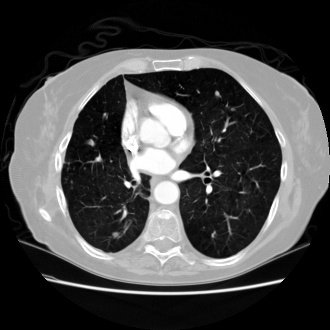PN: (214, 91, 220, 97)
